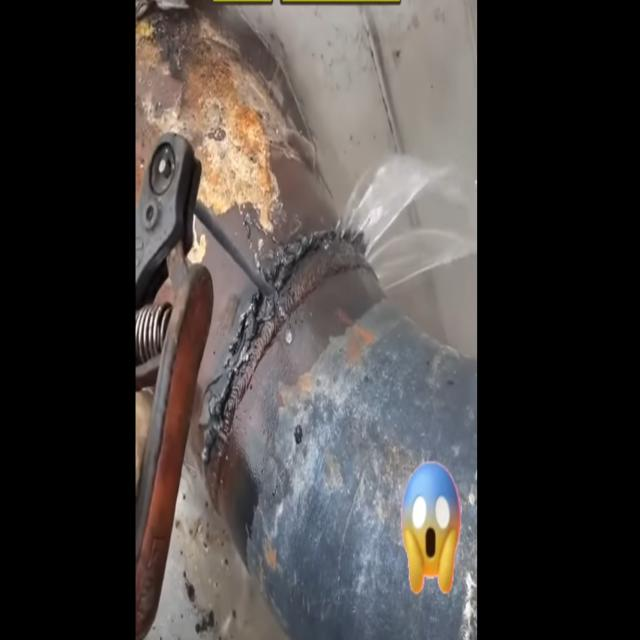leak: (341, 156, 476, 291)
